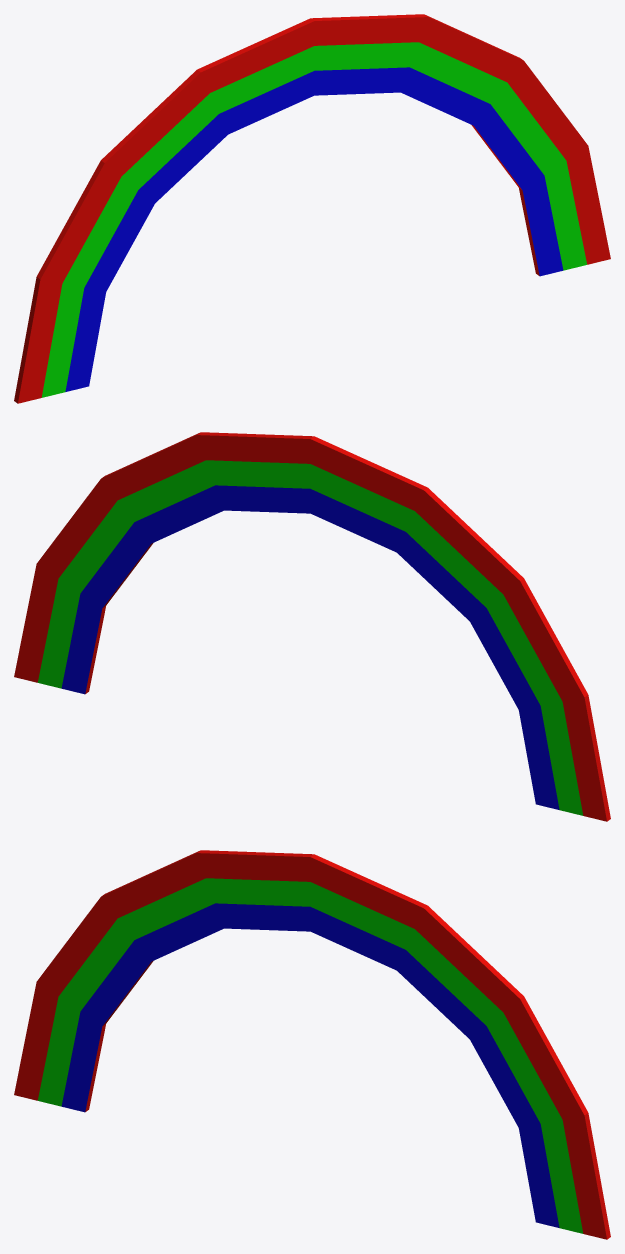
File: rainbow.fbx
3 renders of one model, top to bottom at view 1: azimuth 30°, elevation 25°; view 2: azimuth 150°, elevation 25°; view 3: azimuth 330°, elevation 25°, orthographic.
Parts seen in each view (by area): view 1: Circle.001; view 2: Circle.001; view 3: Circle.001.
Boxes of the visible parts, box(x1,y1,x2,y2) form: Circle.001: box(14, 14, 610, 403); Circle.001: box(14, 432, 610, 821); Circle.001: box(14, 850, 610, 1239).
Size of the model in its own units: 200 by 100 by 2.27.
